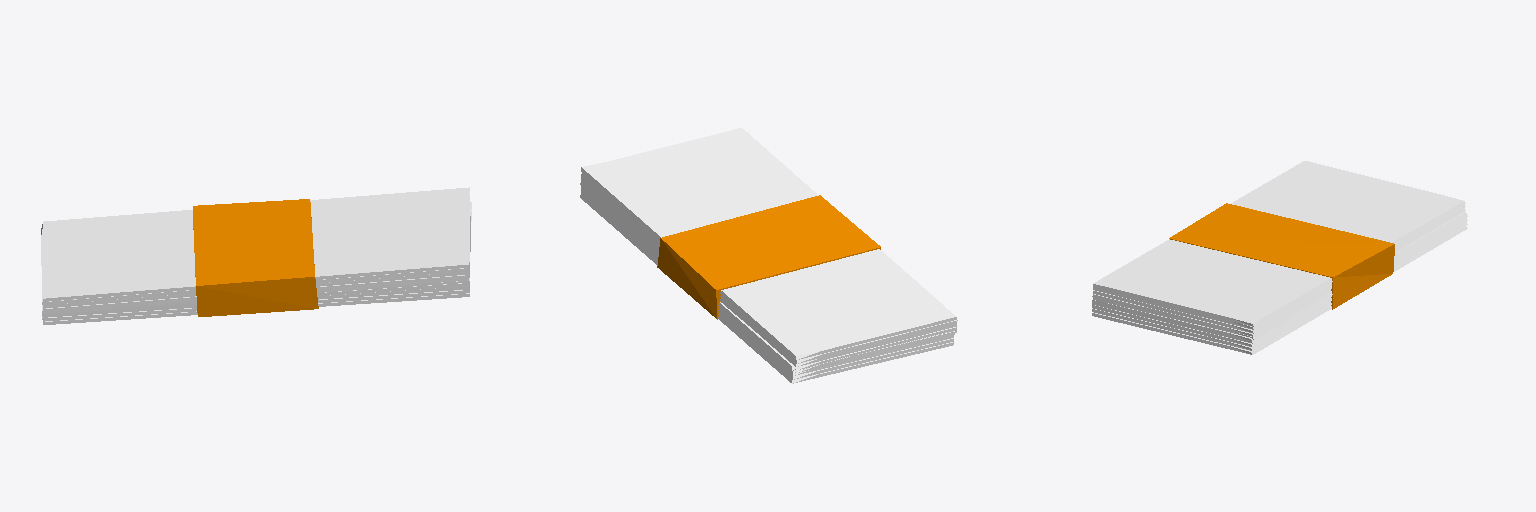
Rendered from model-triangulated.obj.
The picture shows the model from 3 angles: view 1: azimuth 30°, elevation 25°; view 2: azimuth 150°, elevation 25°; view 3: azimuth 270°, elevation 25°; orthographic projection.
Visible parts, largest first — view 1: group[number redacted], group[number redacted], group[number redacted], group[number redacted], group[number redacted], group[number redacted], group[number redacted], group[number redacted], group[number redacted], group[number redacted]; view 2: group[number redacted], group[number redacted], group[number redacted], group[number redacted], group[number redacted], group[number redacted], group[number redacted], group[number redacted], group[number redacted], group[number redacted]; view 3: group[number redacted], group[number redacted], group[number redacted], group[number redacted], group[number redacted], group[number redacted], group[number redacted], group[number redacted], group[number redacted].
Boxes of the visible parts, x1=… form: group[number redacted]: x1=42, y1=187, x2=469, y2=301; group[number redacted]: x1=193, y1=199, x2=318, y2=316; group[number redacted]: x1=43, y1=200, x2=469, y2=311; group[number redacted]: x1=42, y1=211, x2=471, y2=321; group[number redacted]: x1=43, y1=215, x2=471, y2=324; group[number redacted]: x1=41, y1=228, x2=468, y2=304; group[number redacted]: x1=43, y1=194, x2=469, y2=308; group[number redacted]: x1=42, y1=208, x2=471, y2=317; group[number redacted]: x1=42, y1=205, x2=469, y2=314; group[number redacted]: x1=42, y1=283, x2=468, y2=314; group[number redacted]: x1=581, y1=128, x2=956, y2=359; group[number redacted]: x1=657, y1=195, x2=880, y2=319; group[number redacted]: x1=580, y1=195, x2=953, y2=383; group[number redacted]: x1=581, y1=191, x2=953, y2=379; group[number redacted]: x1=581, y1=174, x2=956, y2=366; group[number redacted]: x1=582, y1=173, x2=957, y2=363; group[number redacted]: x1=581, y1=186, x2=953, y2=375; group[number redacted]: x1=581, y1=178, x2=956, y2=370; group[number redacted]: x1=580, y1=183, x2=953, y2=370; group[number redacted]: x1=582, y1=187, x2=954, y2=372; group[number redacted]: x1=1093, y1=161, x2=1465, y2=326; group[number redacted]: x1=1169, y1=203, x2=1394, y2=309; group[number redacted]: x1=1092, y1=226, x2=1467, y2=354; group[number redacted]: x1=1092, y1=212, x2=1467, y2=341; group[number redacted]: x1=1092, y1=218, x2=1467, y2=346; group[number redacted]: x1=1092, y1=222, x2=1467, y2=350; group[number redacted]: x1=1093, y1=208, x2=1465, y2=333; group[number redacted]: x1=1093, y1=205, x2=1465, y2=329; group[number redacted]: x1=1092, y1=232, x2=1428, y2=336.
Bounding box in the file's own units: 1.26 × 0.1826 × 1.01.